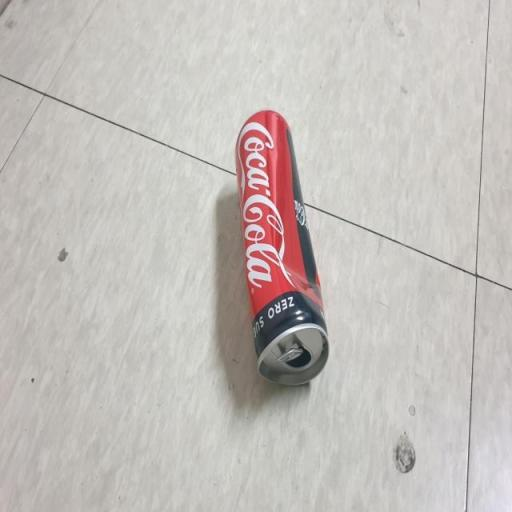metal: (231, 64, 333, 420)
